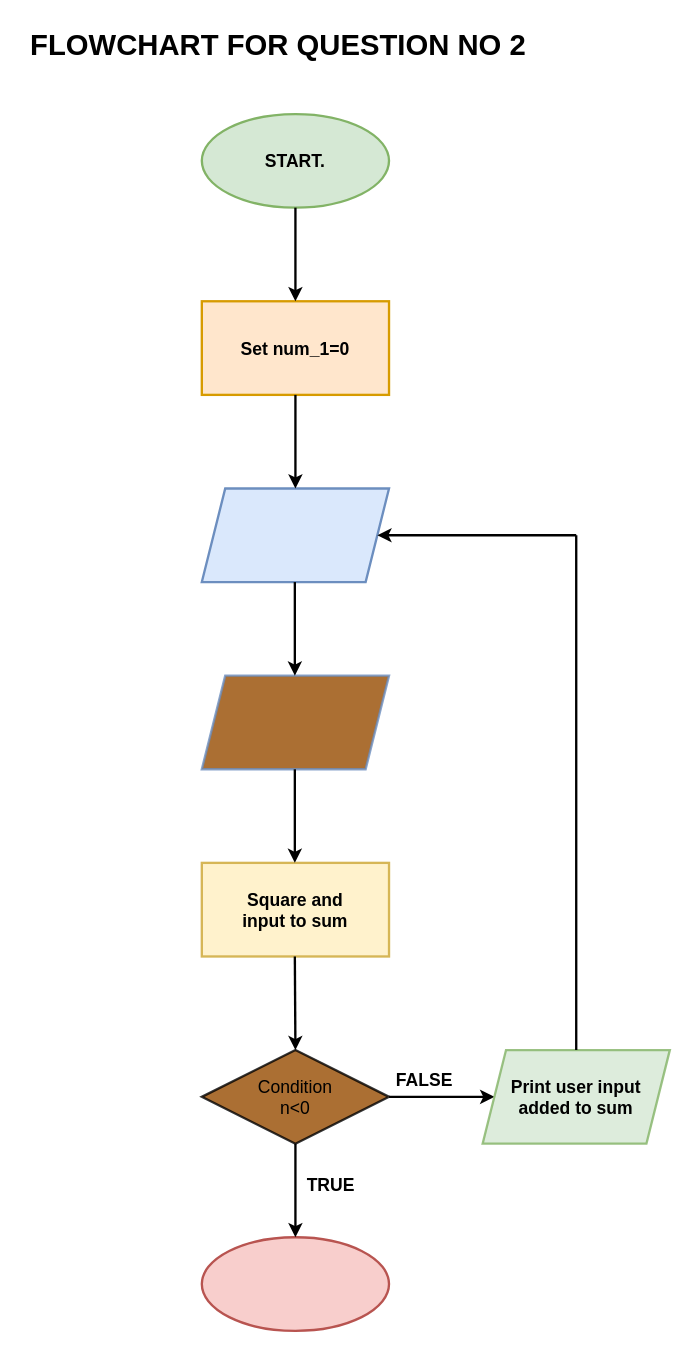
This 690x1351 diagram has some shape labels left out. Here are the shapes that lost their labels. From the top down, the centre of each, then its label:
At [295,535]: "Input numbers".
At [295,722]: "Display numbers".
At [295,1283]: "STOP.".
